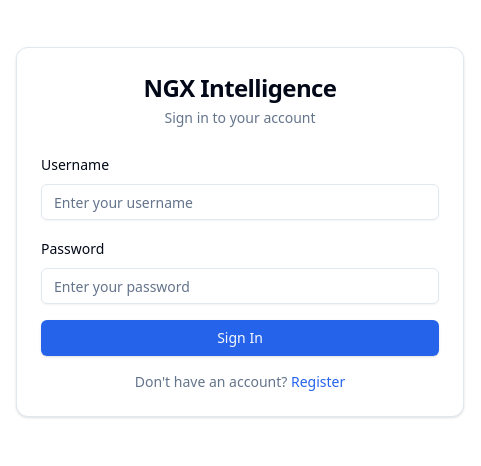
Test: LoginPage › displays error message on failed login
In the field labelled "Username": [240, 202] box [41,184,439,220], type "wronguser"
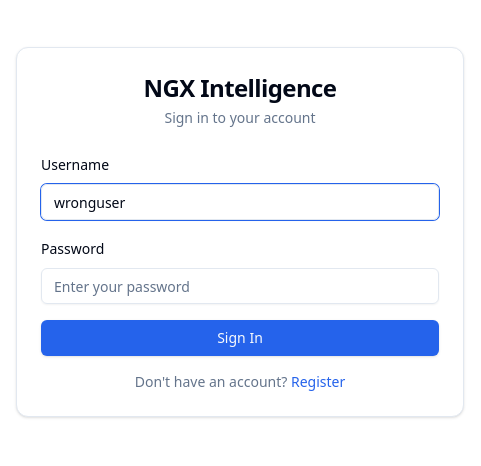
In the password field labelled "Password": [240, 286] box [41,268,439,304], type "wrongpass"
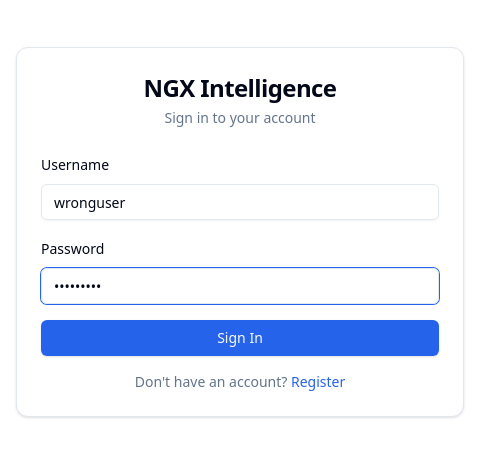
Click the button "Sign In": [240, 338] box [41,320,439,356]
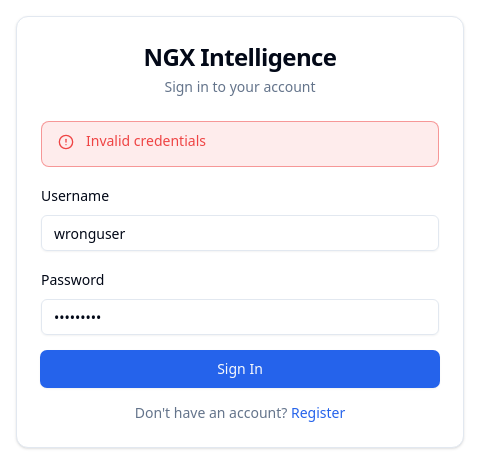
Now the text "Invalid credentials" is shown, box [86,131,206,150]
